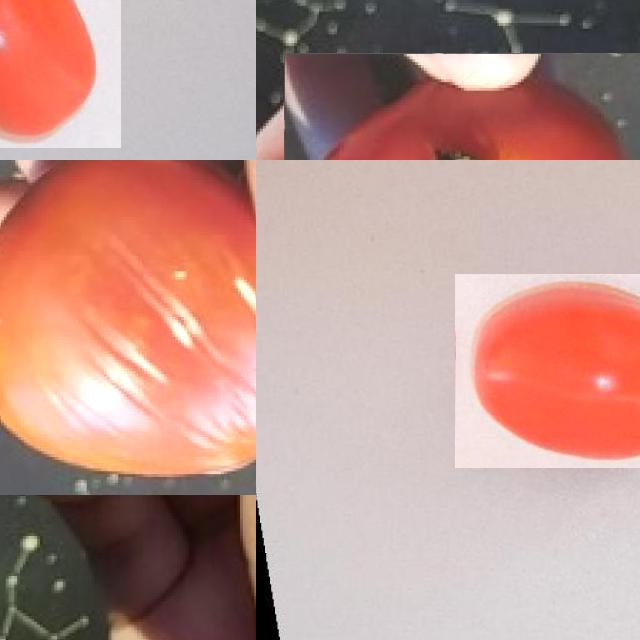Fresh Tomato: (284, 53, 640, 160), (455, 274, 640, 468), (0, 0, 121, 148)
Rotten Tomato: (0, 160, 256, 495)
